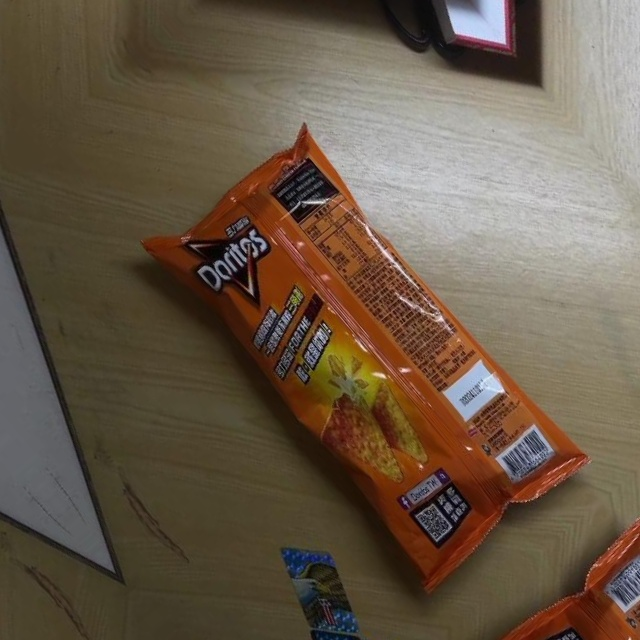Doritos: (133, 106, 594, 597)
